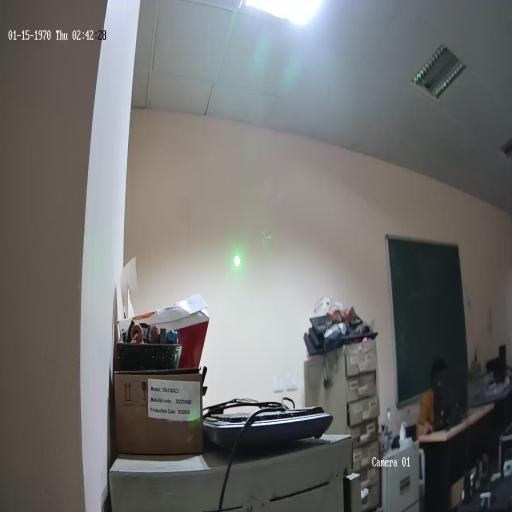laser: (232, 249, 242, 273)
